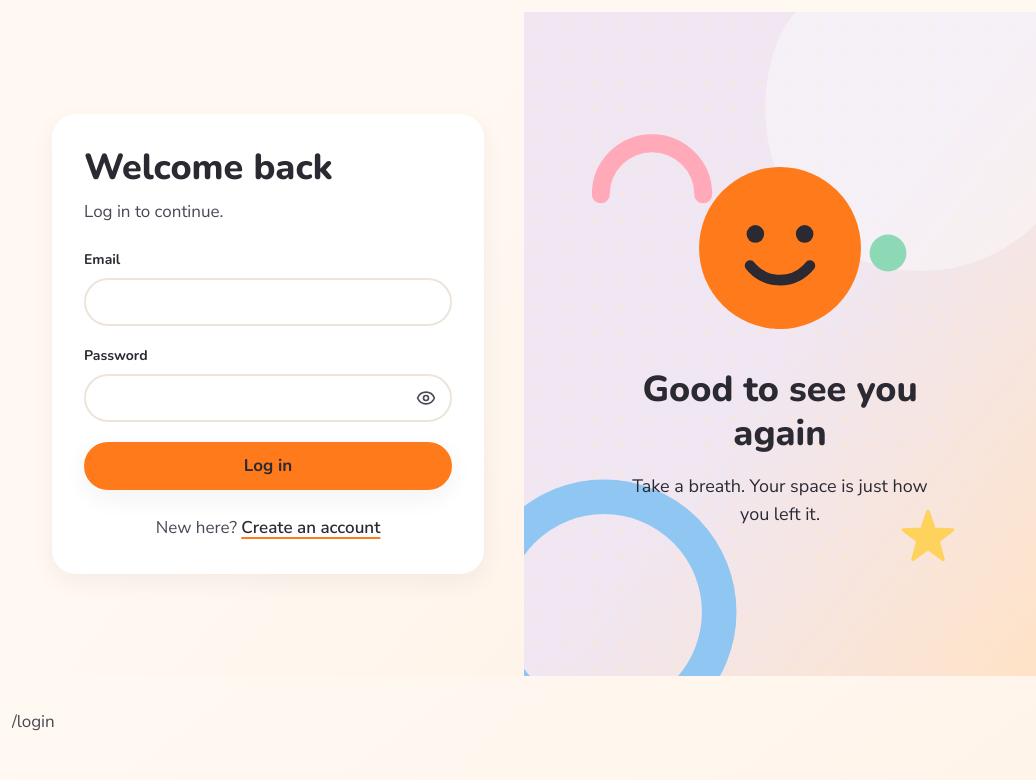
Test: Login form › sends a student to their own home (/app)
In the field labelled "Email": (268, 302) [84, 278, 452, 326], type "asha@college.edu"
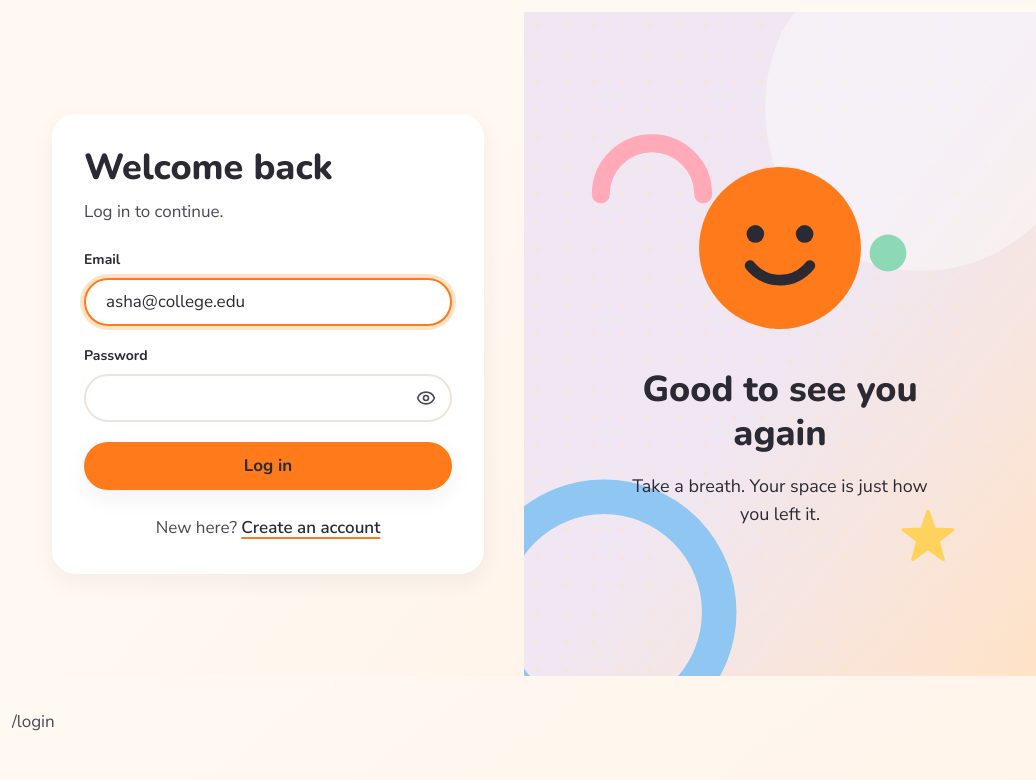
In the password field labelled "Password": (268, 398) [84, 374, 452, 422], type "secret123"
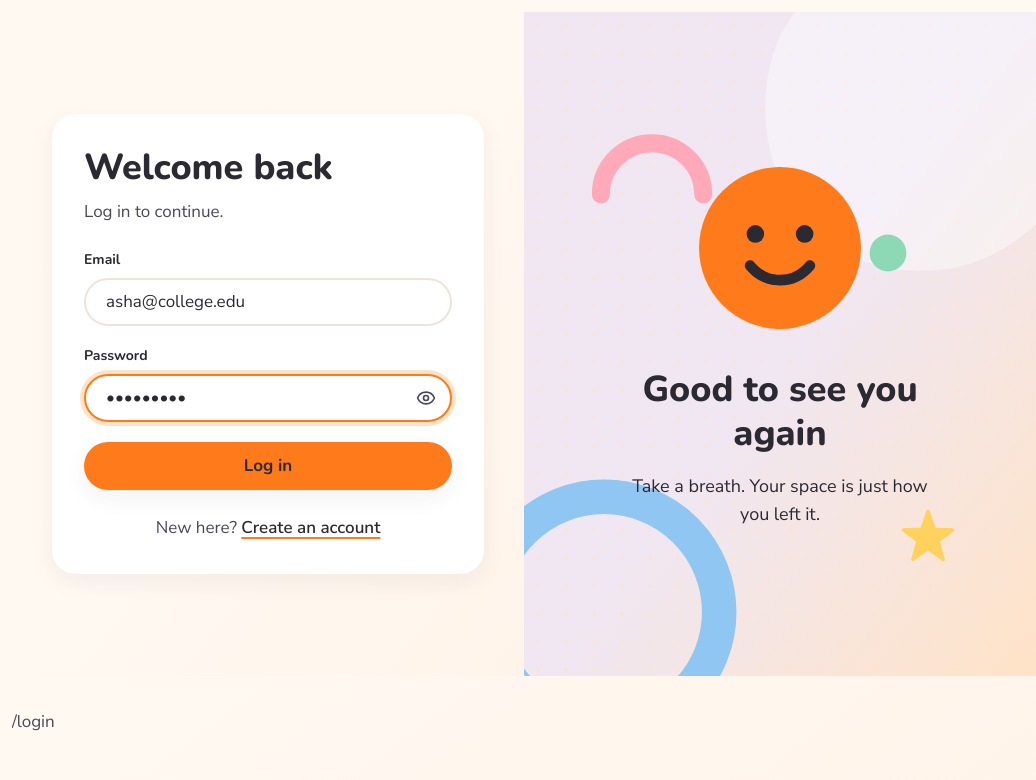
Click the button "Log in": (268, 466) [84, 442, 452, 490]
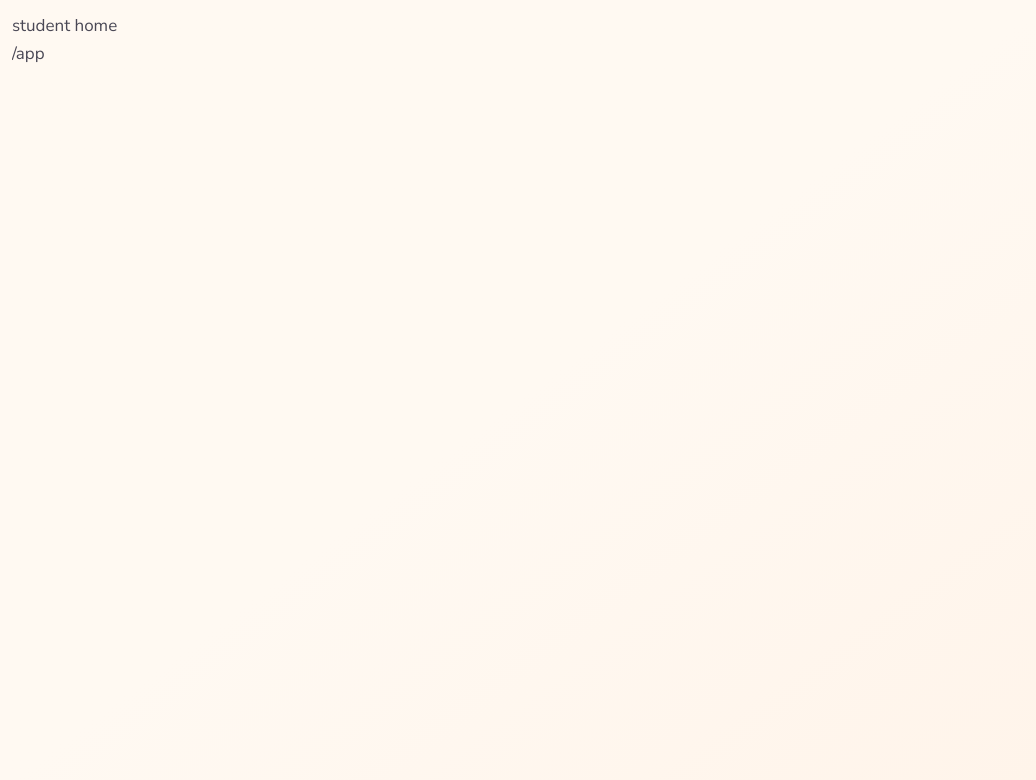
Result: the text with test id "location" reads "/app" at [12, 42, 45, 65]
Result: the text "student home" is shown at [12, 14, 117, 37]
